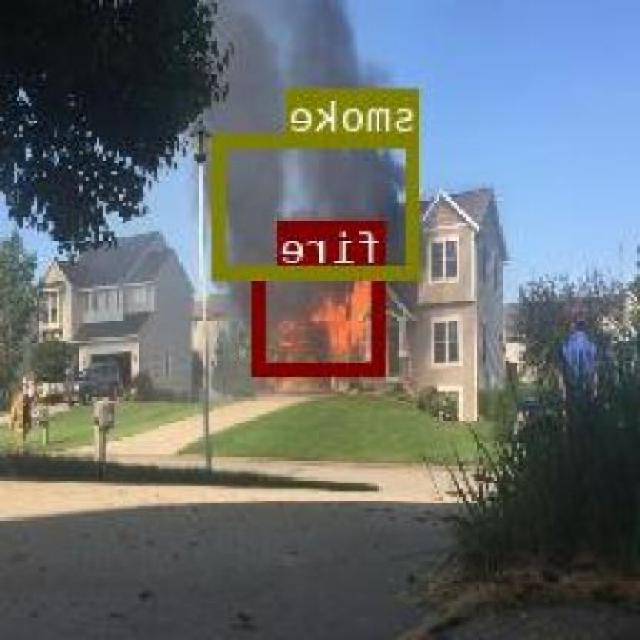Fire: (256, 262, 387, 372)
Smoke: (215, 132, 423, 276)
